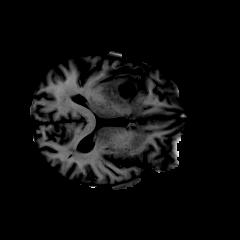glioma: (85, 64, 146, 107)
